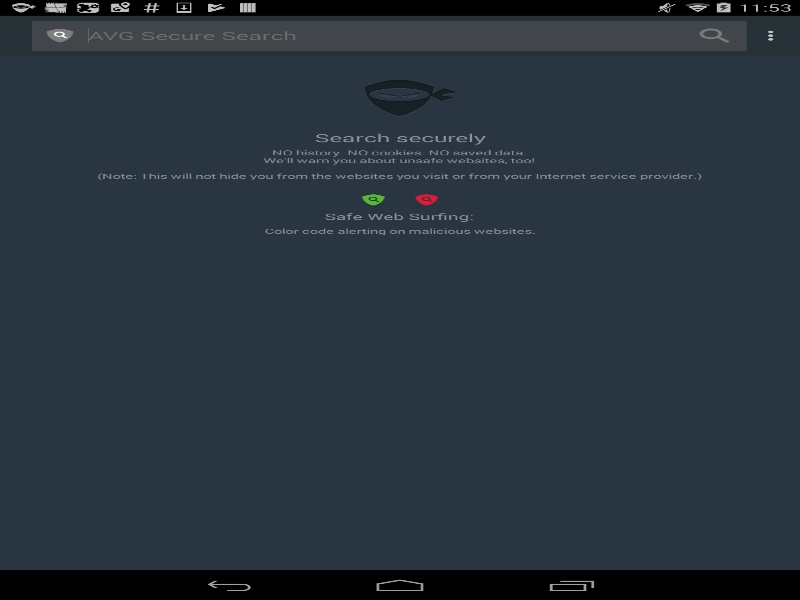Input: (88, 20, 682, 50)
